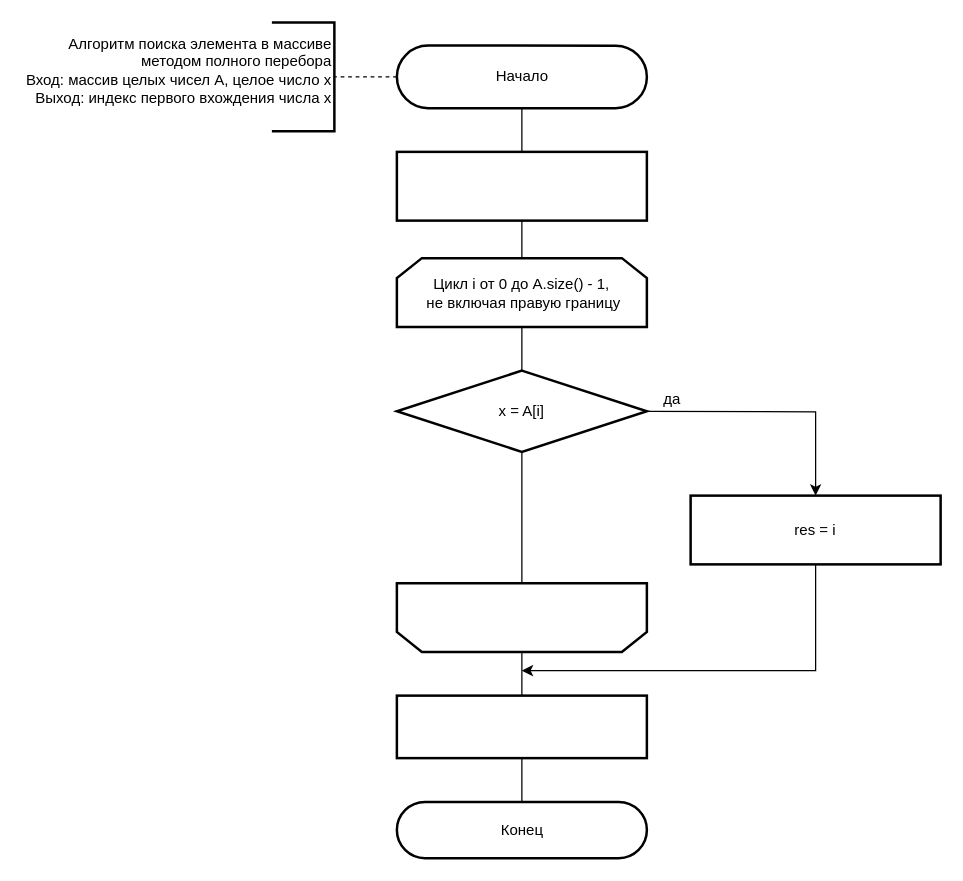
Image size: 963x881. Some labels were removed from this diagram. The centre of each missing label's shape, as x and y in pixels:
"res = -1" goes at pixel 521 185.
"Вернуть res" goes at pixel 521 726.
"Конец цикл по i" goes at pixel 521 616.
